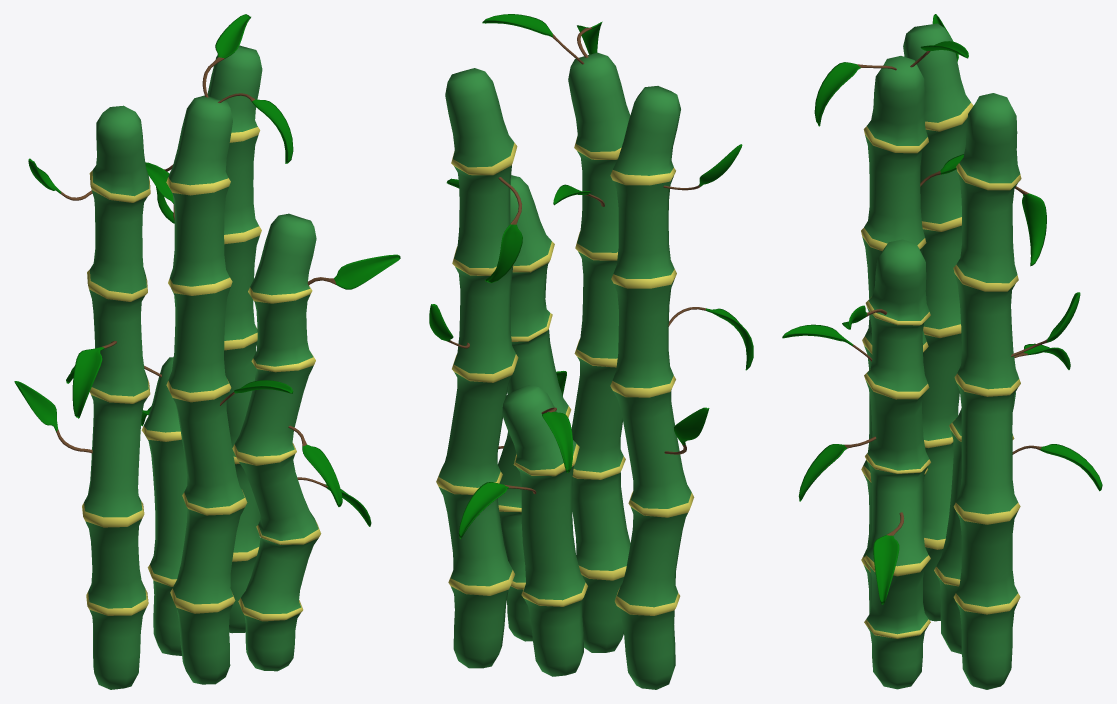
Rendered from Bamboo_Croissance_2.fbx.
The picture shows the model from 3 angles, left to right: view 1: azimuth 30°, elevation 25°; view 2: azimuth 150°, elevation 25°; view 3: azimuth 270°, elevation 25°; orthographic projection. The views are drawn at different scales.
Visible parts, largest first — view 1: Plane.001, Plane.003, Plane.010, Plane.011, Plane.006, Plane.002, Plane.008; view 2: Plane.001, Plane.014, Plane.009, Plane.007, Plane.006, Plane.011, Plane.010, Plane.012, Plane.013, Plane.008; view 3: Plane.001, Plane, Plane.014, Plane.008, Plane.002, Plane.009, Plane.004, Plane.013.
Part boxes in pixels (bbox=[...]): Plane.001: bbox=[82, 45, 321, 689]; Plane.003: bbox=[307, 254, 400, 289]; Plane.010: bbox=[72, 341, 116, 418]; Plane.011: bbox=[14, 381, 92, 453]; Plane.006: bbox=[202, 14, 250, 97]; Plane.002: bbox=[288, 425, 342, 506]; Plane.008: bbox=[218, 93, 293, 163]; Plane.001: bbox=[436, 52, 694, 689]; Plane.014: bbox=[485, 177, 522, 283]; Plane.009: bbox=[458, 482, 536, 539]; Plane.007: bbox=[541, 407, 573, 472]; Plane.006: bbox=[482, 14, 584, 64]; Plane.011: bbox=[664, 407, 709, 454]; Plane.010: bbox=[668, 307, 753, 370]; Plane.012: bbox=[663, 144, 742, 190]; Plane.013: bbox=[429, 304, 469, 348]; Plane.008: bbox=[577, 21, 602, 57]; Plane.001: bbox=[861, 23, 1021, 689]; Plane: bbox=[873, 512, 903, 604]; Plane.014: bbox=[1015, 186, 1046, 266]; Plane.008: bbox=[814, 62, 896, 126]; Plane.002: bbox=[798, 436, 876, 501]; Plane.009: bbox=[1012, 444, 1102, 491]; Plane.004: bbox=[782, 324, 872, 361]; Plane.013: bbox=[1011, 292, 1080, 356].
Bounding box in the file's own units: 210 × 381 × 173.
